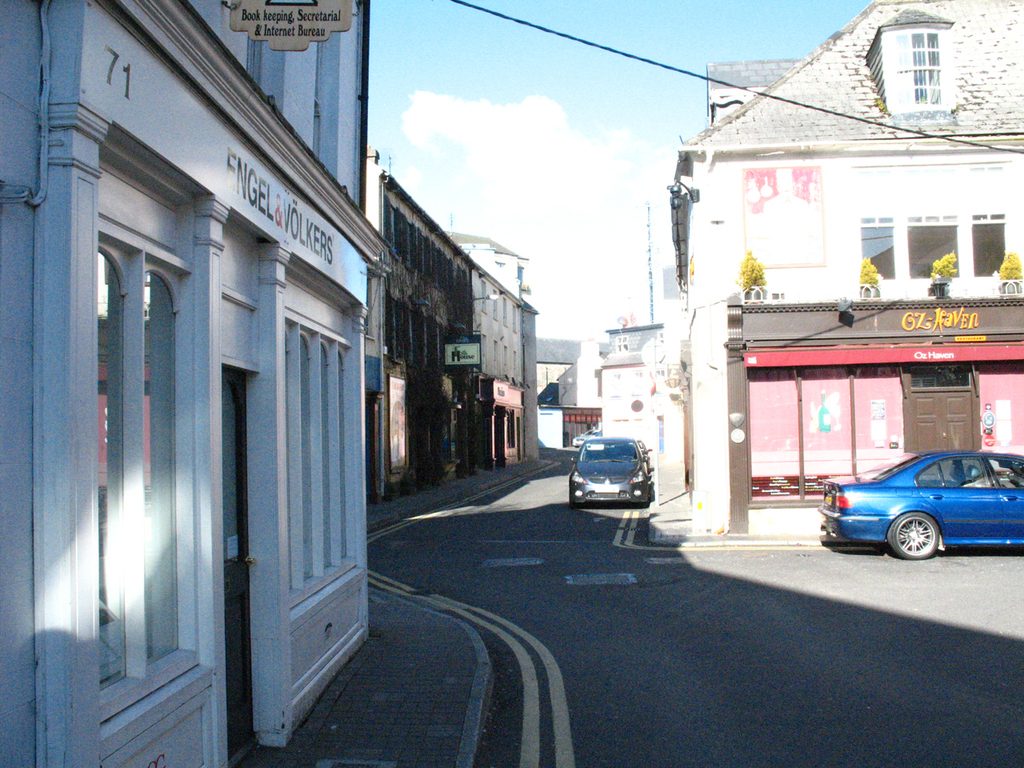Car: (816, 452, 1023, 562), (569, 440, 658, 505)
